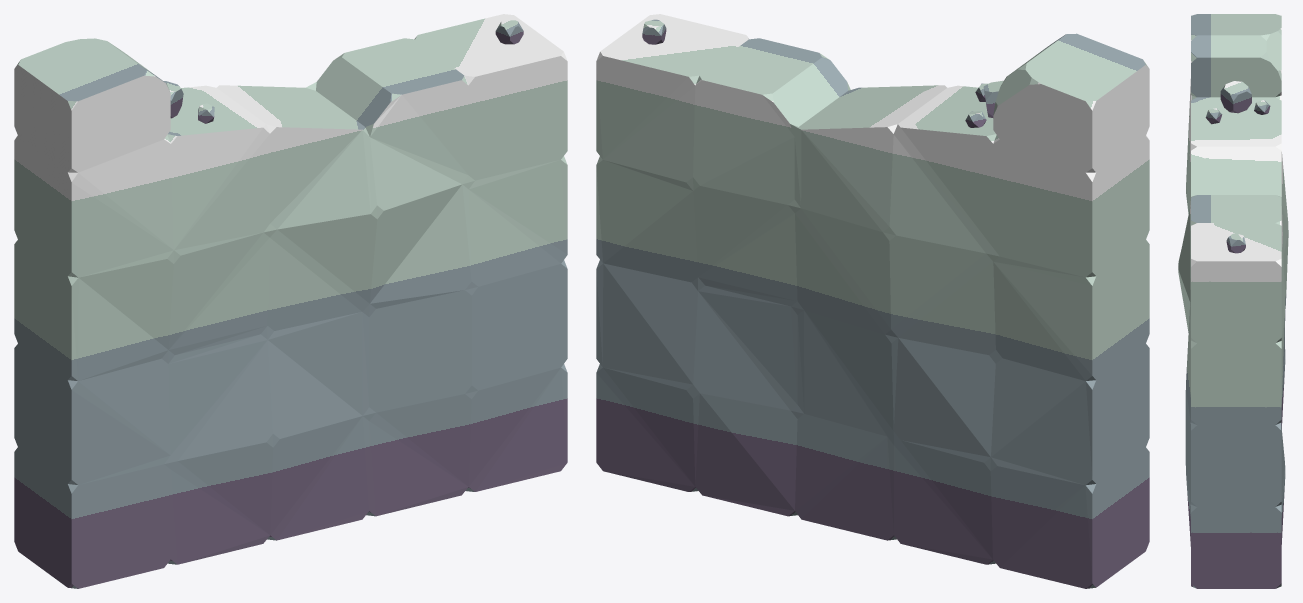
The model's file is Wall 3.001.fbx.
The picture shows the model from 3 angles, left to right: view 1: azimuth 30°, elevation 25°; view 2: azimuth 150°, elevation 25°; view 3: azimuth 270°, elevation 25°; orthographic projection. The views are drawn at different scales.
Visible parts, largest first — view 1: Wall 3.001; view 2: Wall 3.001; view 3: Wall 3.001.
Boxes of the visible parts, x1=… form: Wall 3.001: x1=14, y1=14, x2=567, y2=588; Wall 3.001: x1=596, y1=14, x2=1149, y2=588; Wall 3.001: x1=1178, y1=14, x2=1288, y2=588.
Bounding box in the file's own units: 500 × 480 × 122.
